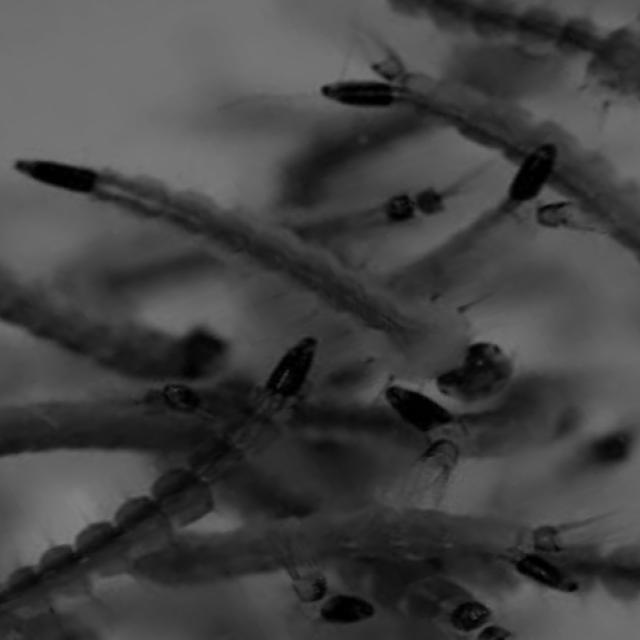larvas: (17, 119, 524, 414), (0, 331, 339, 633), (322, 26, 640, 256), (364, 144, 566, 305), (0, 262, 239, 393), (124, 513, 556, 567), (384, 387, 570, 484), (390, 0, 639, 69), (283, 170, 451, 256), (294, 572, 489, 640), (262, 112, 389, 212), (0, 390, 163, 461), (550, 523, 640, 595)
